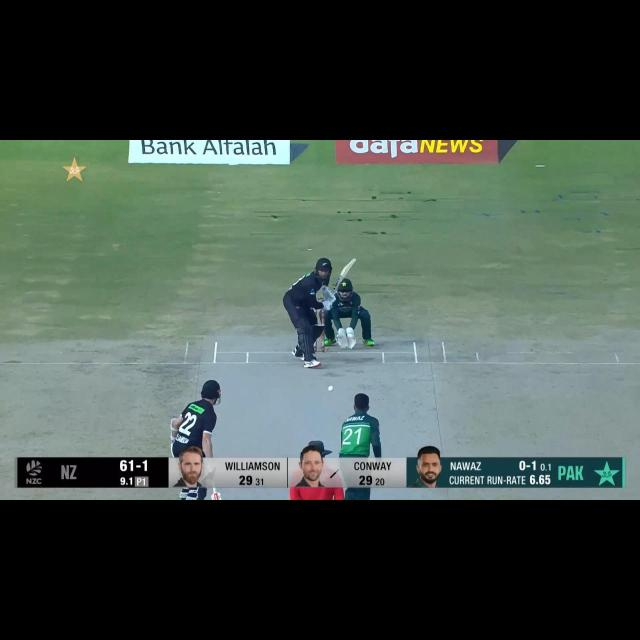bat: (330, 258, 356, 296), (210, 488, 221, 500)
toe: (348, 257, 356, 267)
